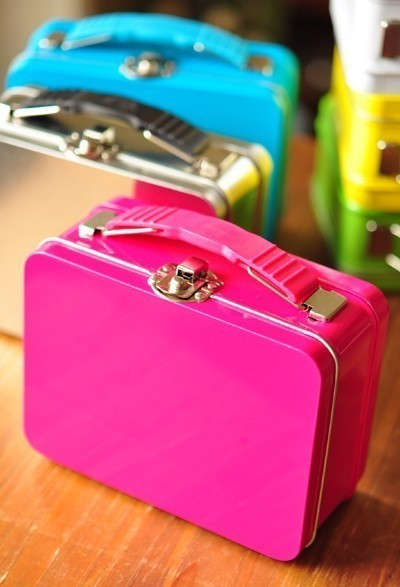shoutibox: (22, 198, 388, 562)
